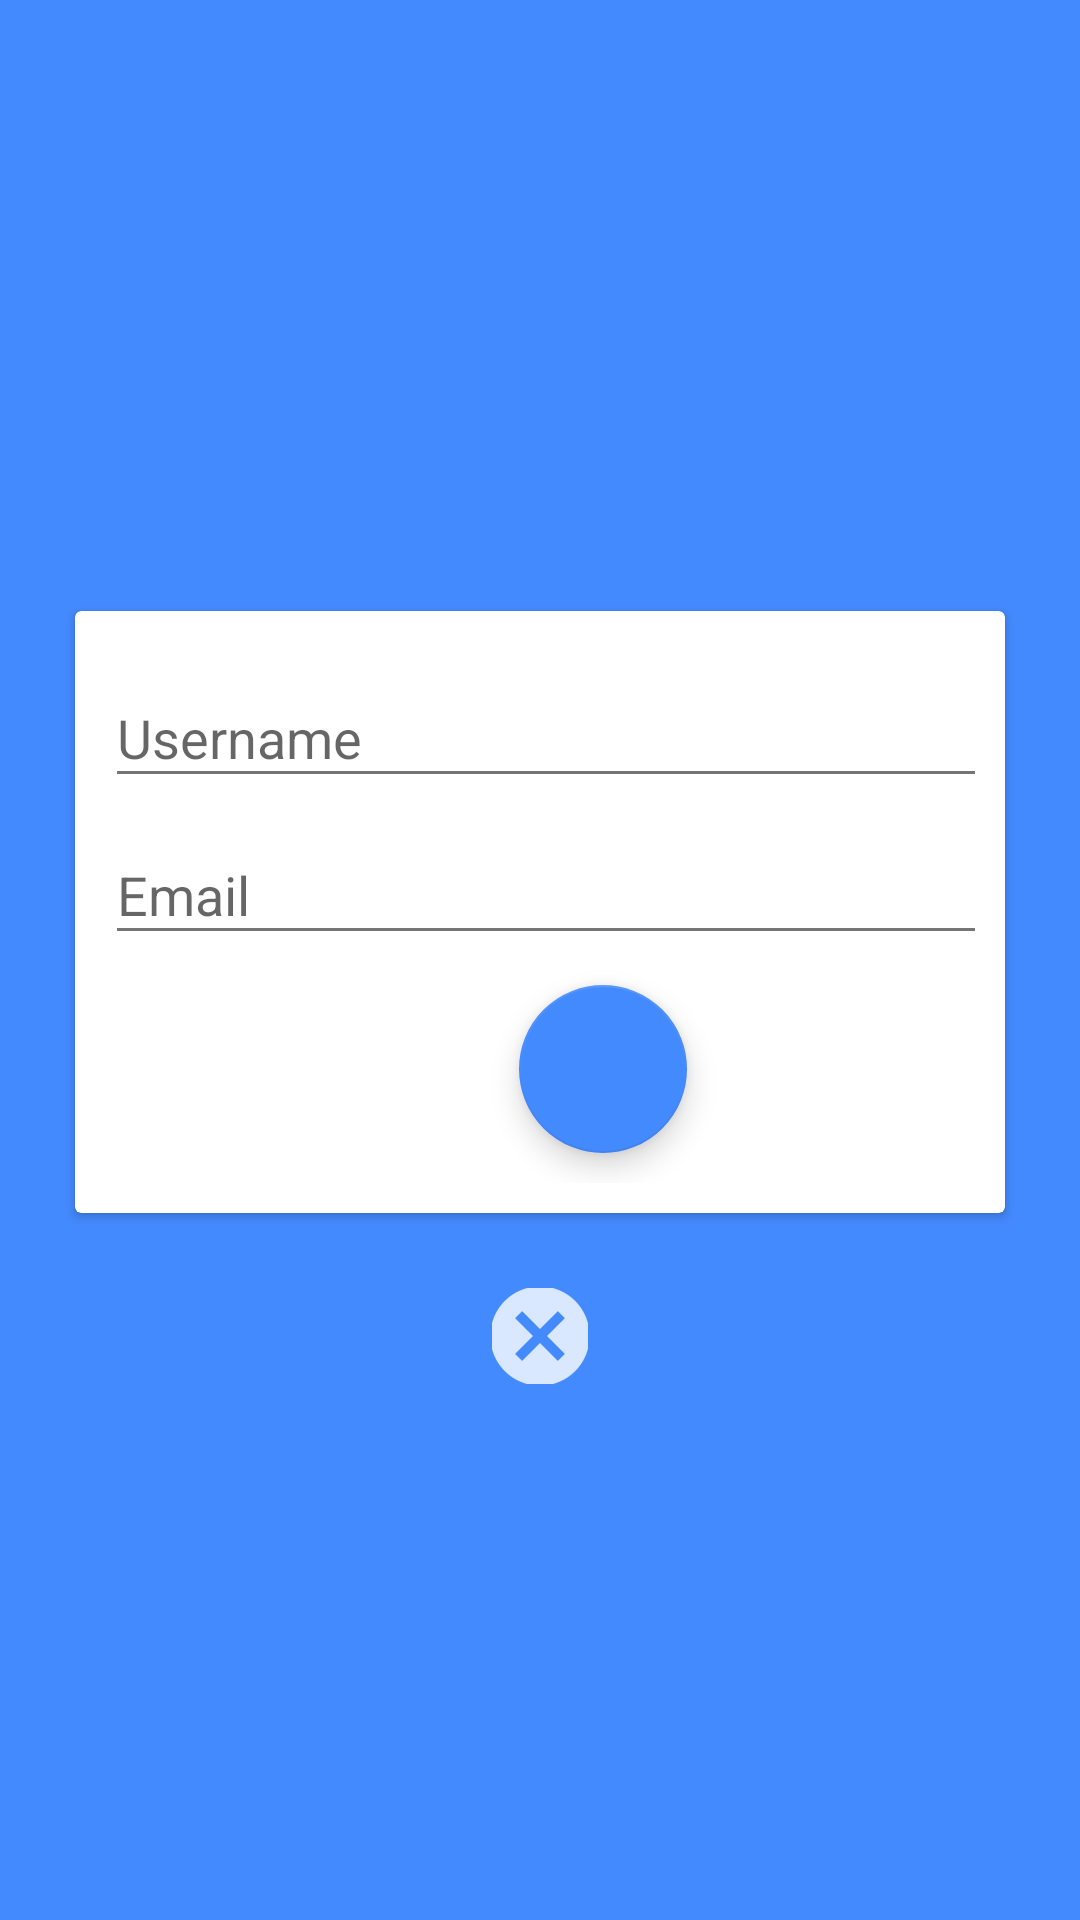

Icon click points for this 1080 x 1920 phone screenshot, format (x,y):
cancel: (540,1336)
